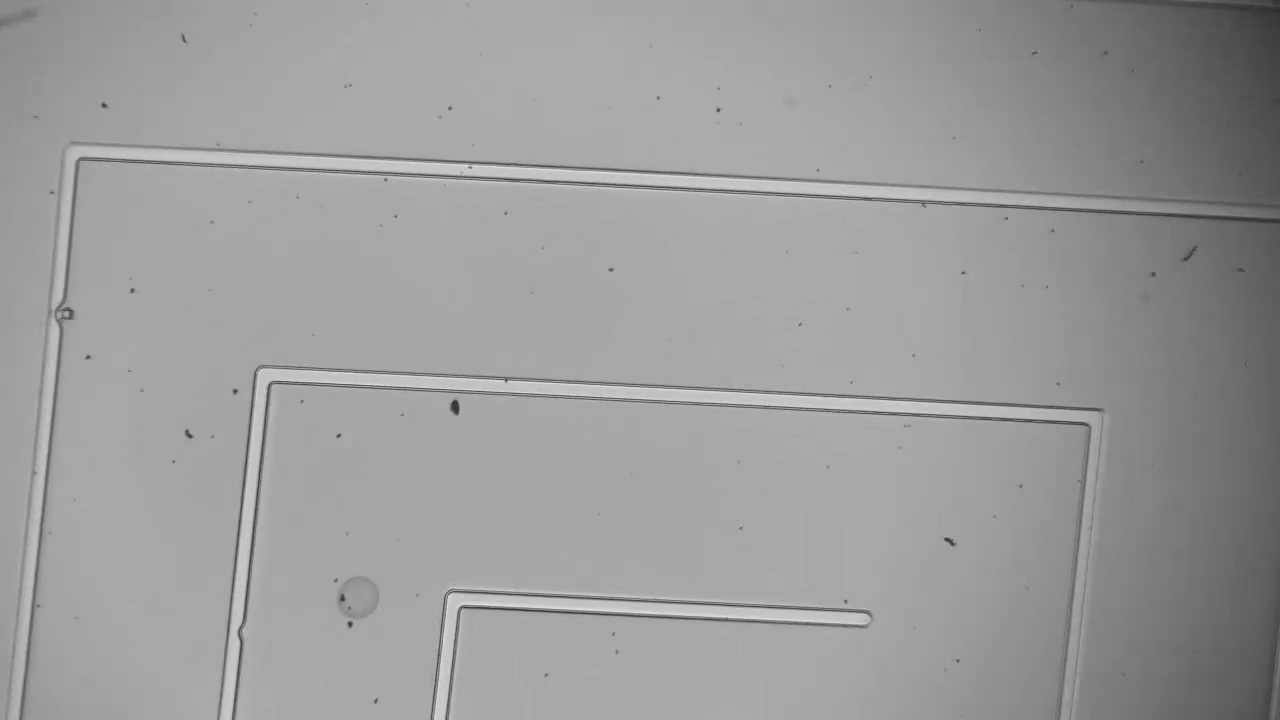edge_bite: (42, 294, 84, 338), (216, 609, 255, 650)
